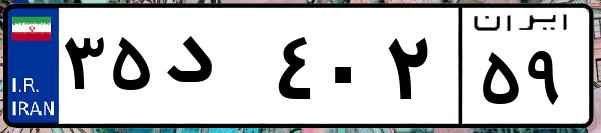0: (330, 28, 385, 110)
2: (385, 28, 445, 110)
3: (57, 26, 110, 100)
4: (270, 28, 330, 110)
5: (475, 38, 525, 113), (110, 28, 158, 98)
9: (525, 38, 570, 115)
د: (158, 20, 270, 120)
